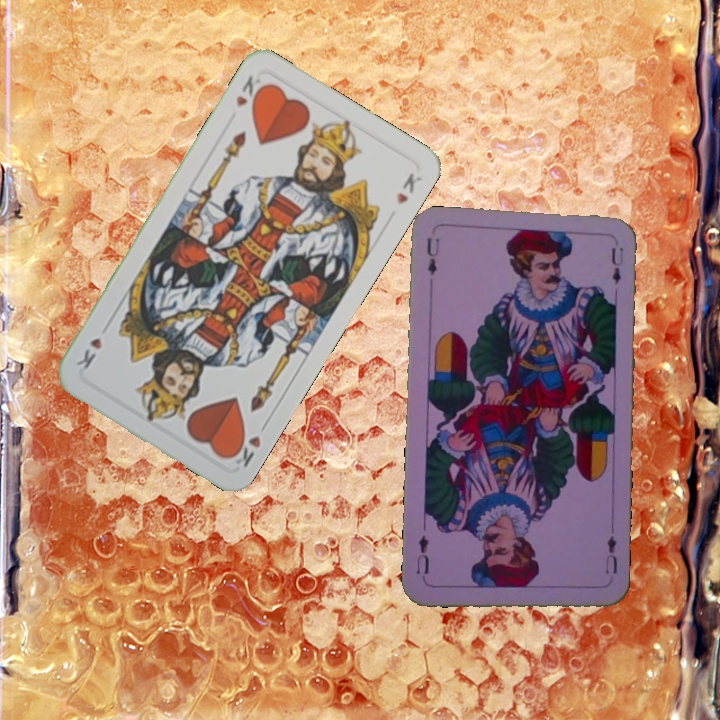EU: (422, 233, 442, 278), (601, 532, 620, 577)
HK: (226, 417, 271, 471), (232, 71, 269, 111)
